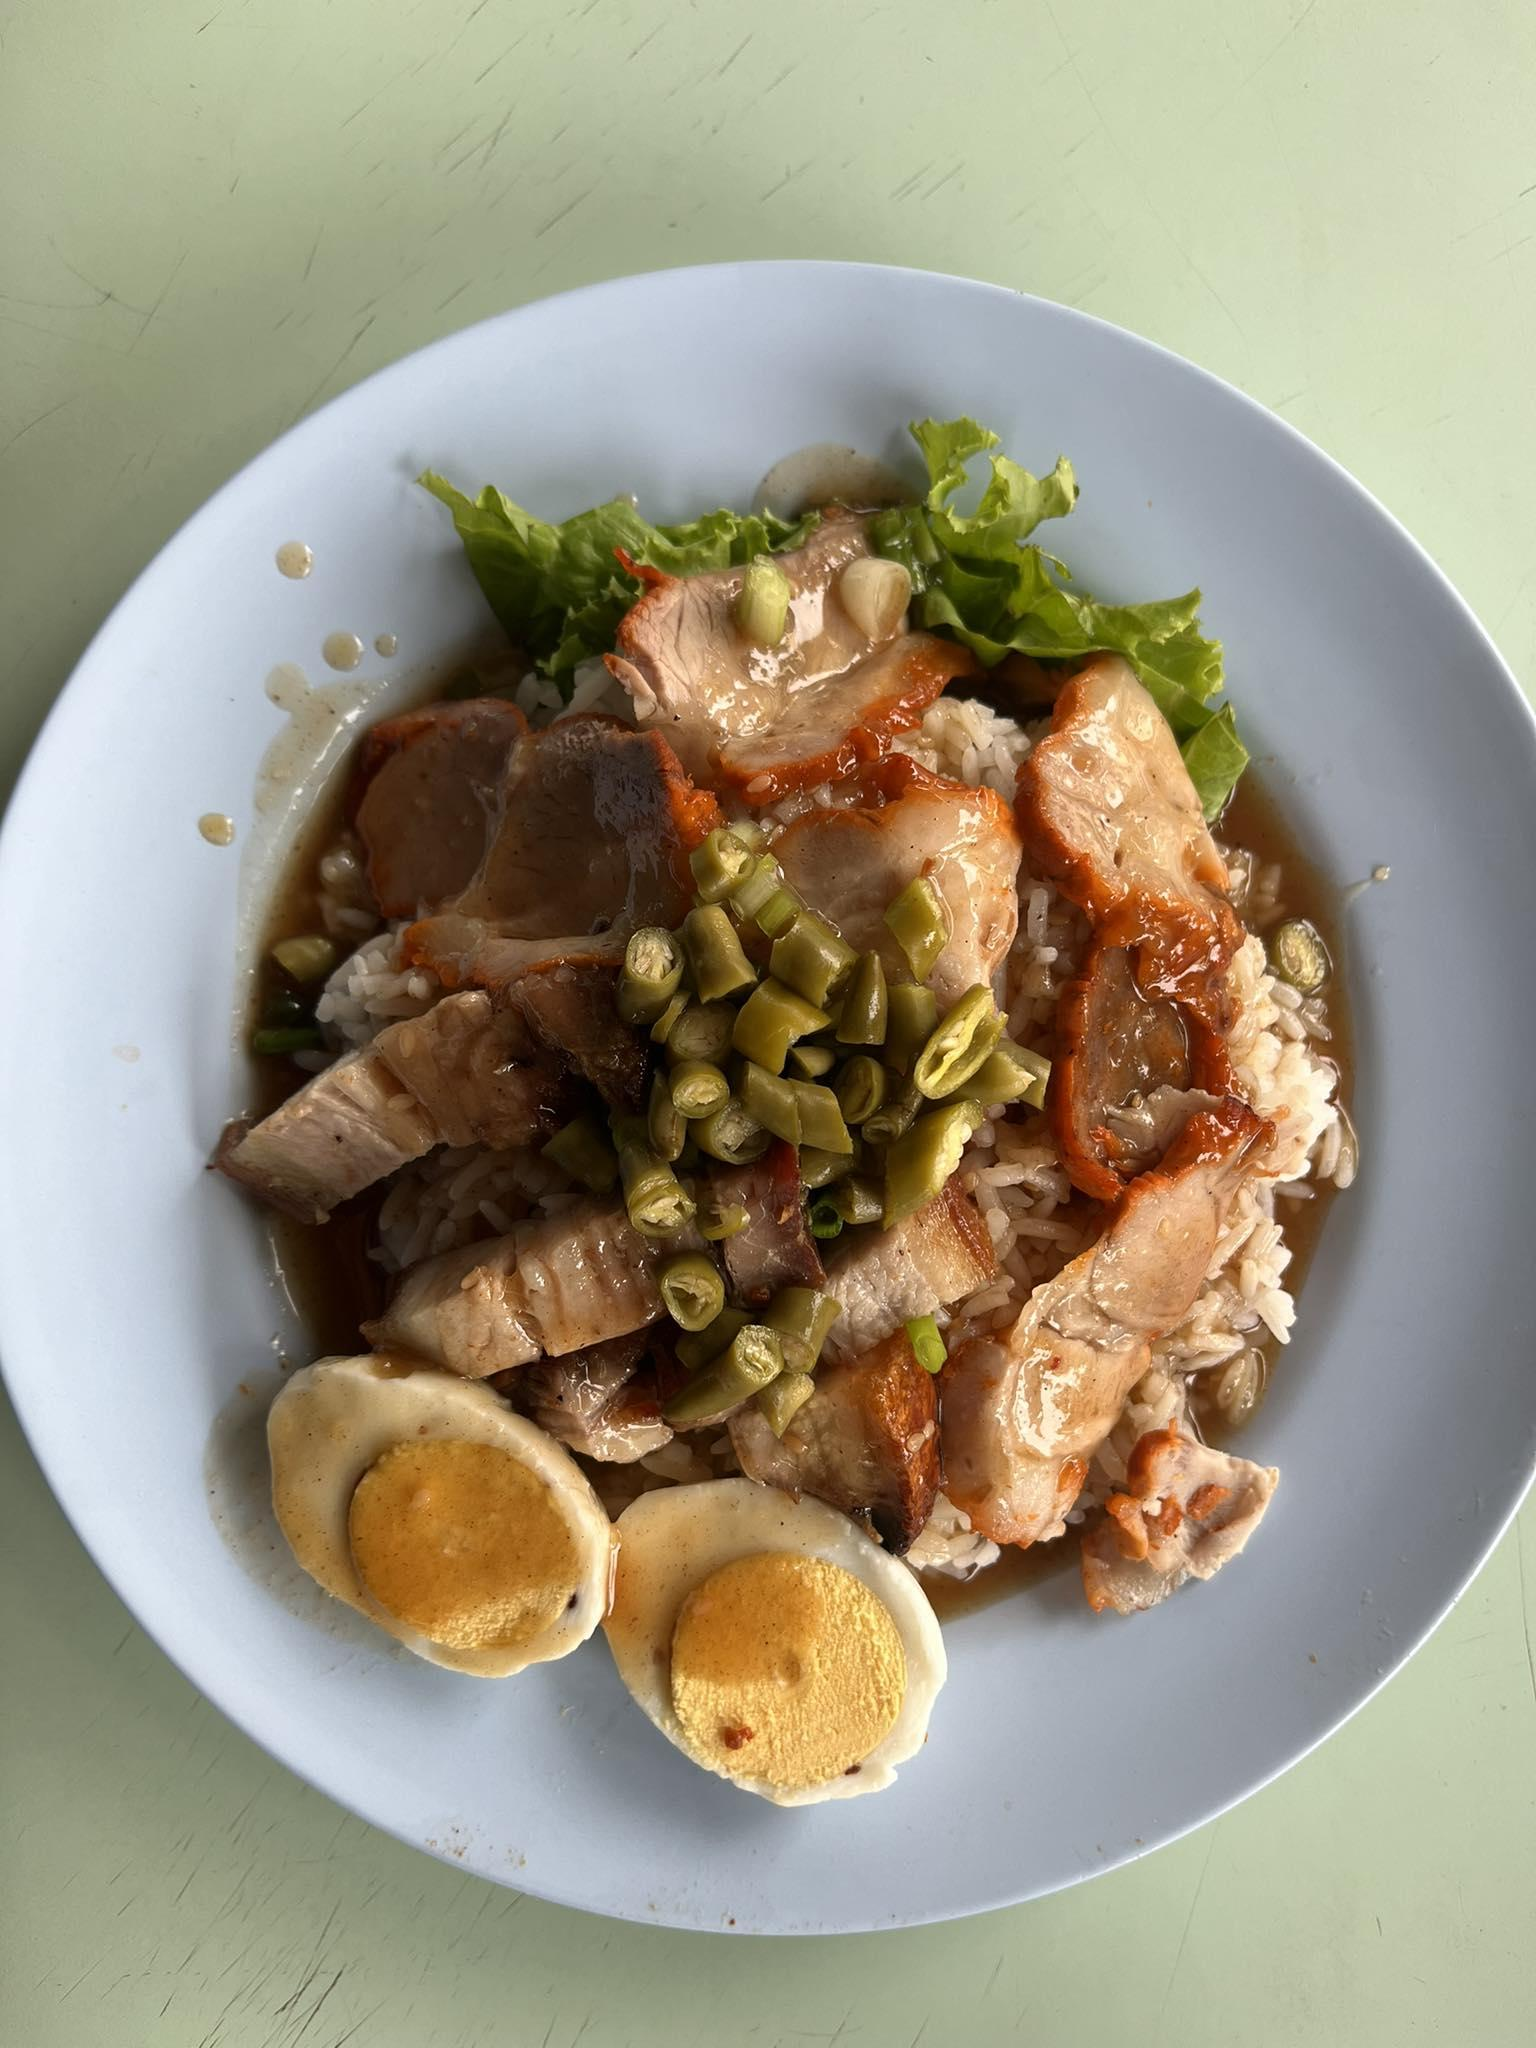carbohydrate: (290, 703, 1394, 1603)
meat: (373, 748, 1184, 1434), (248, 1350, 975, 1804)
vegetable: (411, 458, 1270, 732), (650, 811, 1007, 1272)
